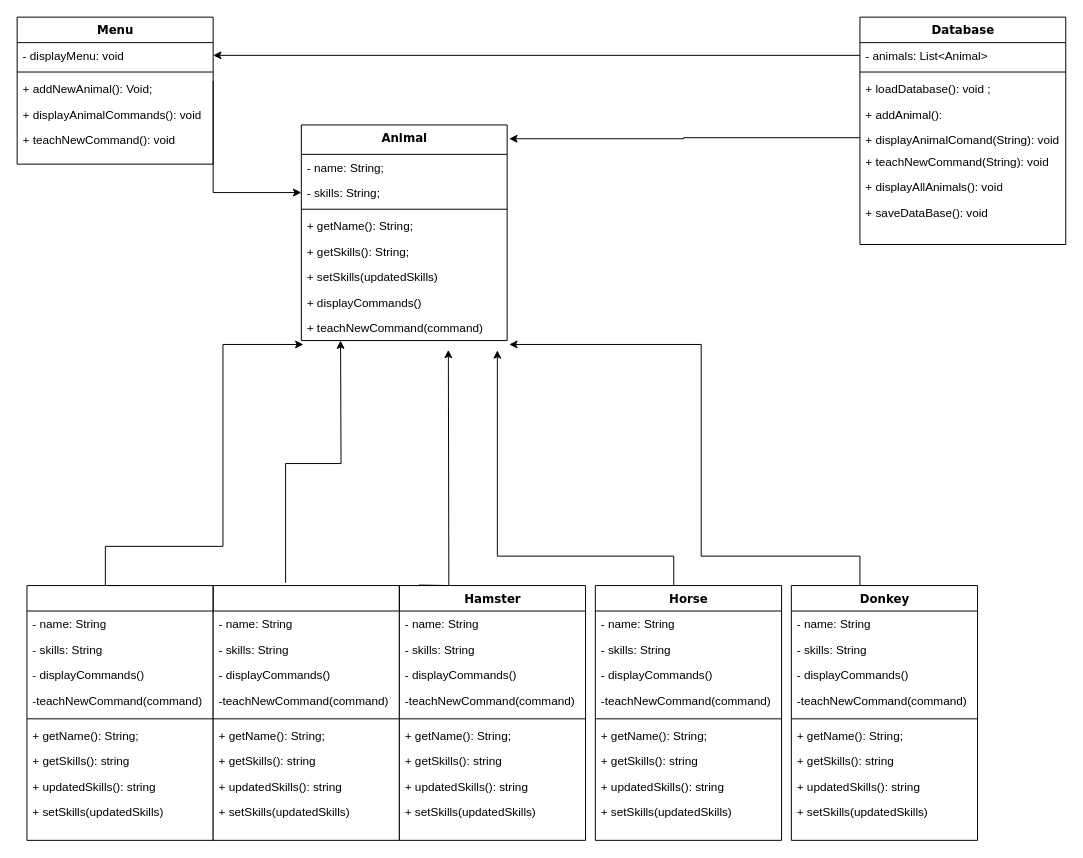
Image size: 1083x858. Some labels were removed from this diagram. The shapes that lost their labels are listed below. From the top down, each one's box as (x1, y1, x2, y2) in pixels, then its label:
(26, 585, 213, 840): Cat
(212, 585, 399, 840): Dog
